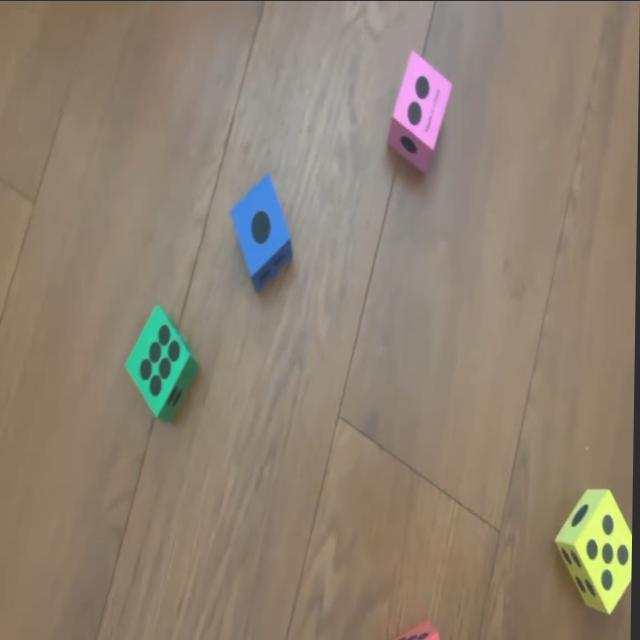cube: (126, 303, 197, 424), (232, 170, 294, 292), (396, 616, 441, 640)
